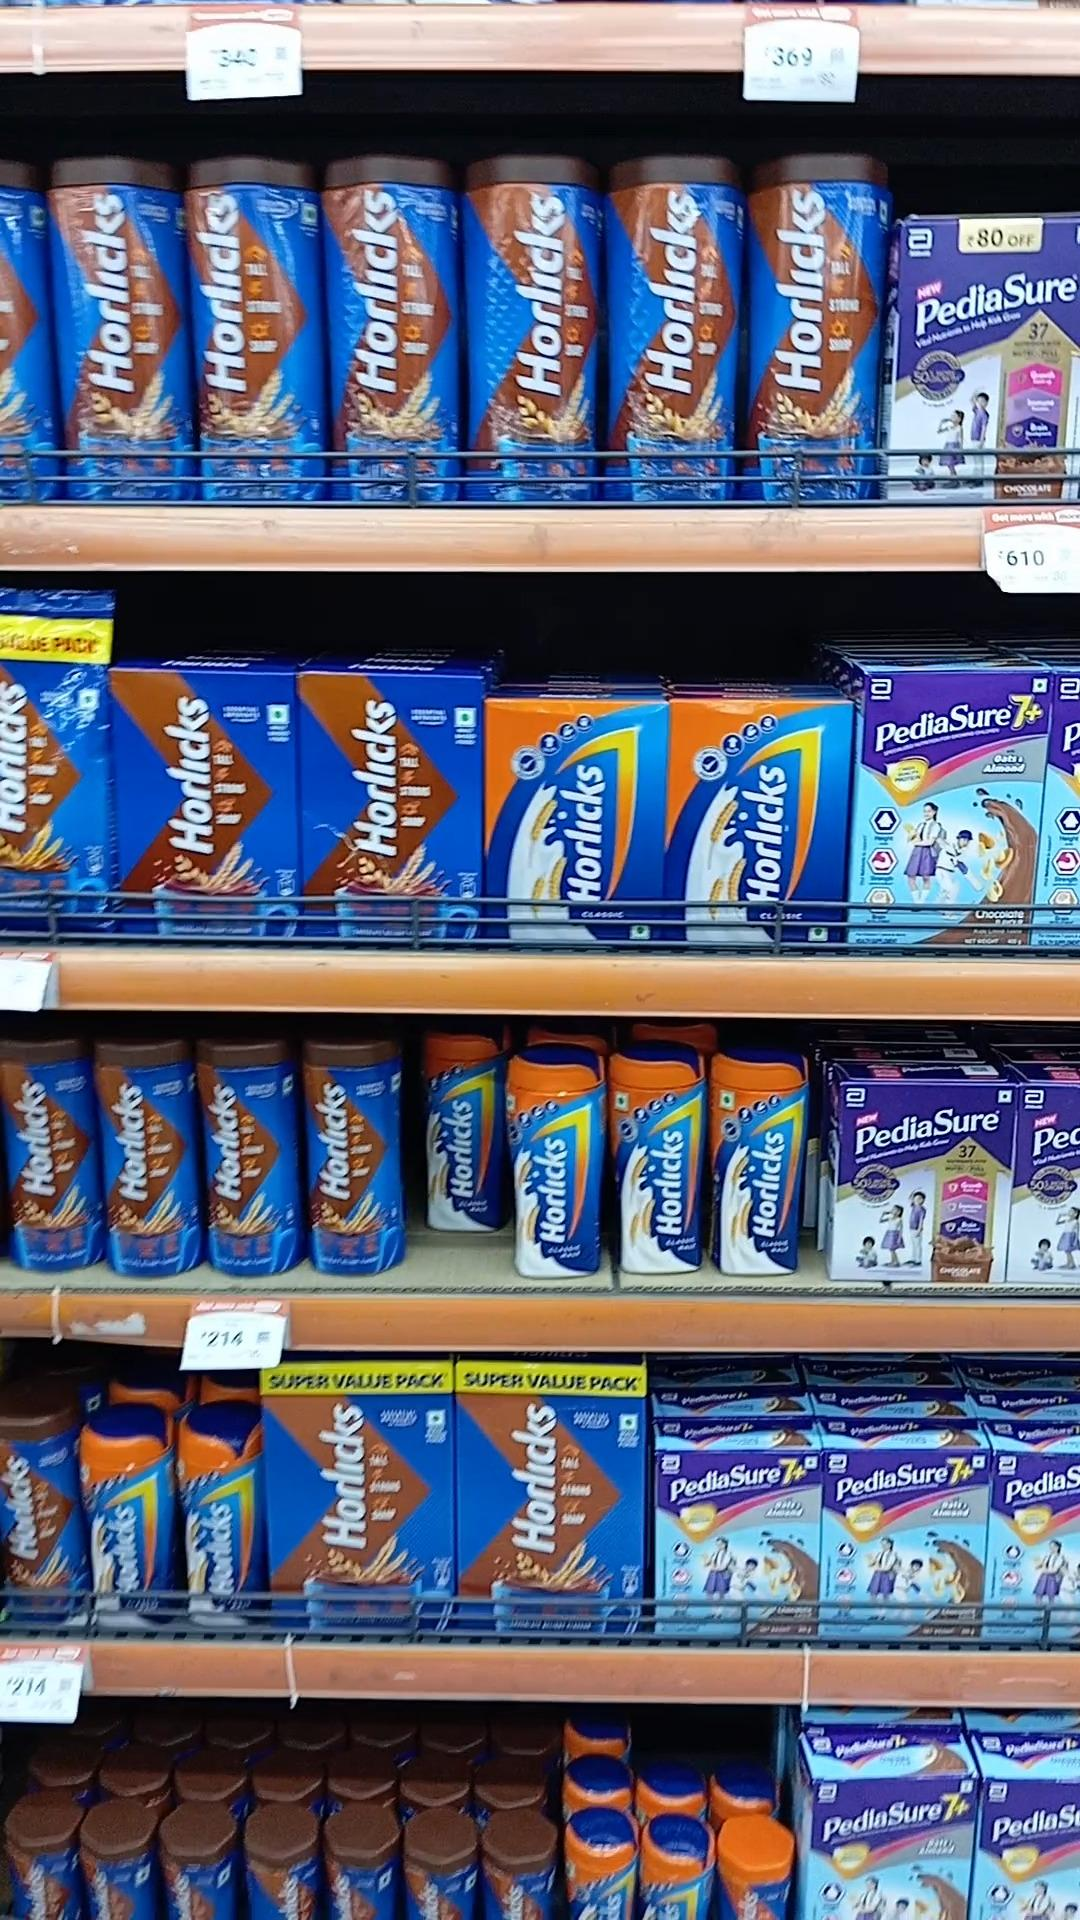HORLICK_CHOCOLATE_1_KG_PACK: (459, 1362, 645, 1635), (269, 1357, 448, 1631)
HORLICK_CHOCOLATE_500_G_JAR: (303, 1035, 406, 1276), (203, 1026, 298, 1275), (100, 1030, 196, 1275), (1, 1030, 96, 1274)
HORLICK_CHOCOLATE_500_G_PACK: (298, 670, 477, 948), (117, 666, 287, 945)
HORLICK_CLASSIC_MALT_500_G_JAR: (709, 1043, 810, 1276), (509, 1046, 604, 1280), (608, 1046, 704, 1274), (76, 1408, 170, 1631), (175, 1402, 260, 1629), (425, 1026, 502, 1233)
HORLICK_CLASSIC_MALT_500_G_PACK: (669, 696, 847, 949), (485, 699, 663, 944)
PEDIASURE_7_PLUS_CHOCOLATE_400_G_PACK: (857, 673, 1034, 951), (822, 1447, 992, 1638), (654, 1455, 818, 1638)
PEDIASURE_CHOCOLATE_500_G_PACK: (898, 220, 1080, 505), (835, 1087, 1018, 1286)
